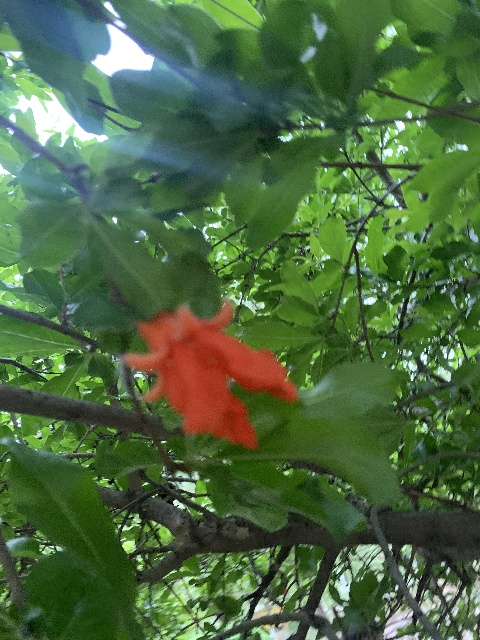flower: (126, 301, 296, 450)
